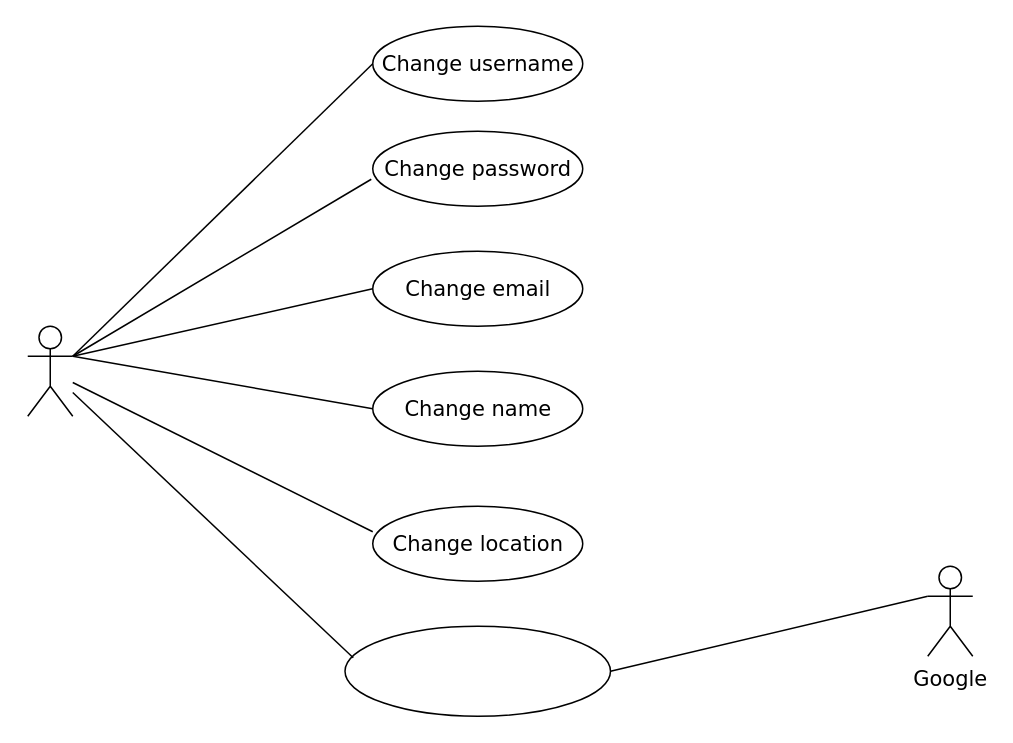
Some shapes in this 1013 by 743 pixel diagram are drawn without their labels. Here are the shapes that lost their labels. From the top down, the box of each, then its label:
(26, 325, 73, 416): User
(344, 625, 610, 716): Change Google account
